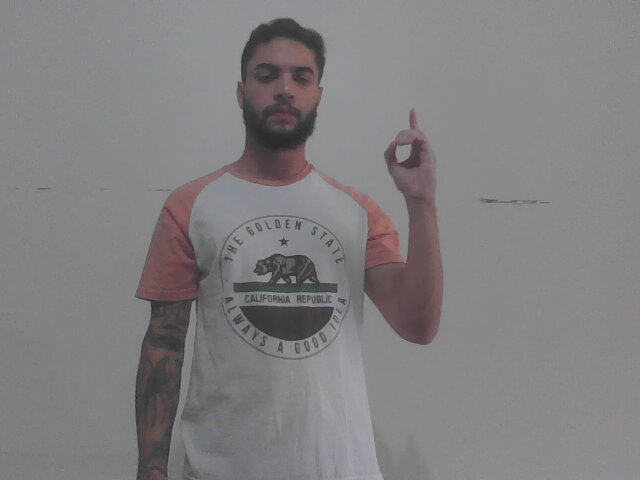d: (382, 106, 450, 209)
